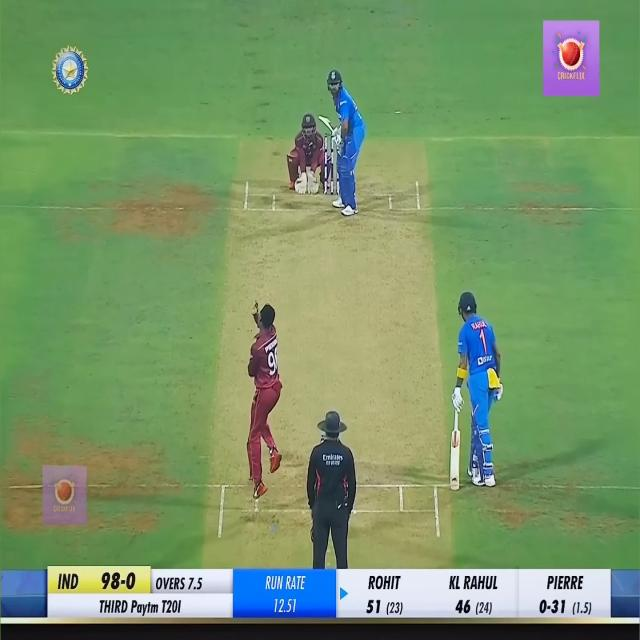fully_visible: (130, 597, 158, 619)
